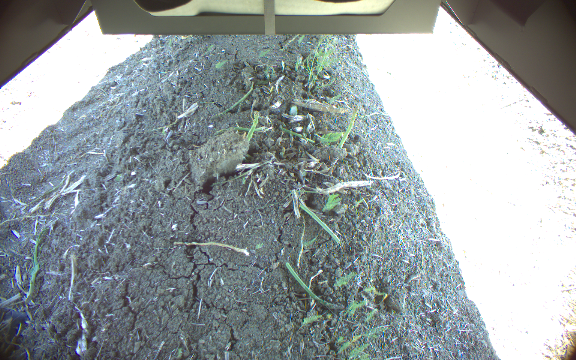aspa: (336, 105, 359, 150), (245, 110, 259, 145)
